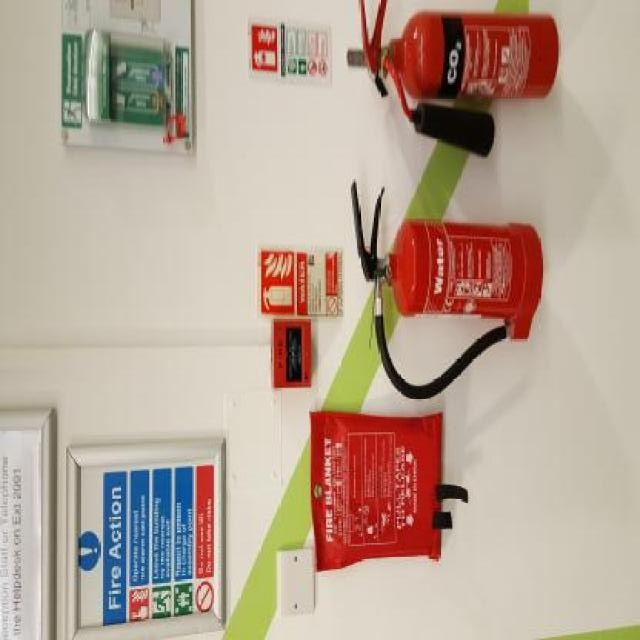fire extinguisher: (352, 179, 545, 405), (356, 0, 558, 159)
